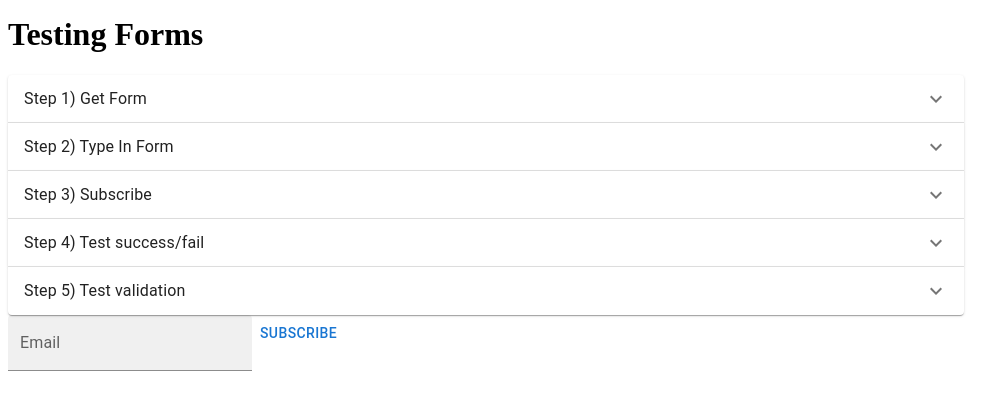
Test: forms tests › Test subscribe form
Check: the heading "Testing Forms" is shown, box x1=8 y1=16 x2=203 y2=52
Type "elena@gmail.com" into the field labelled "Email" at (130, 343), box x1=8 y1=315 x2=252 y2=371
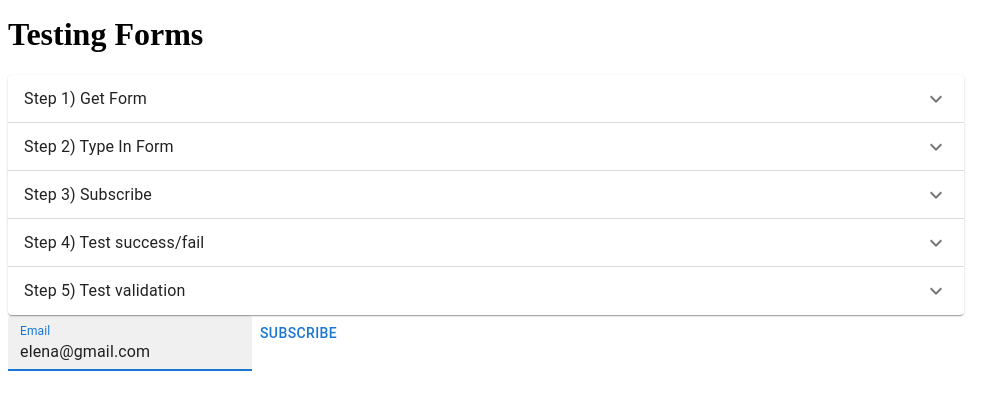
Click the button with test id "subscribe-button" at (299, 334), box x1=252 y1=315 x2=345 y2=352
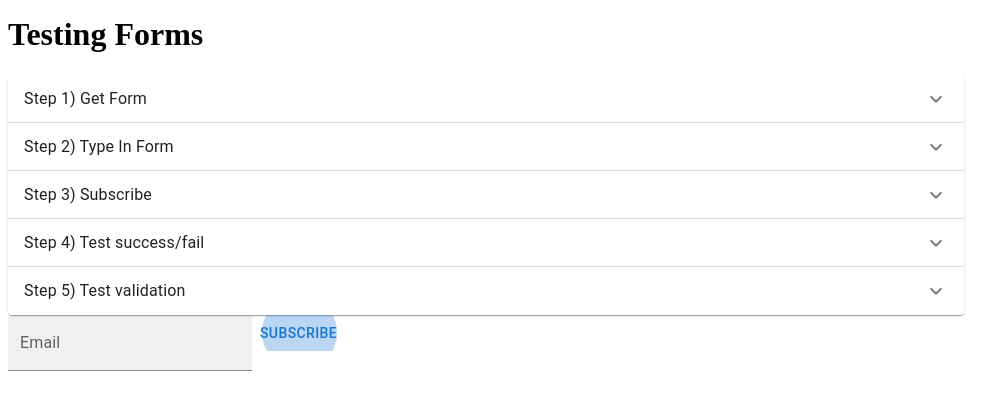
Type "elena@gmail.io" into the field labelled "Email" at (130, 343), box x1=8 y1=315 x2=252 y2=371
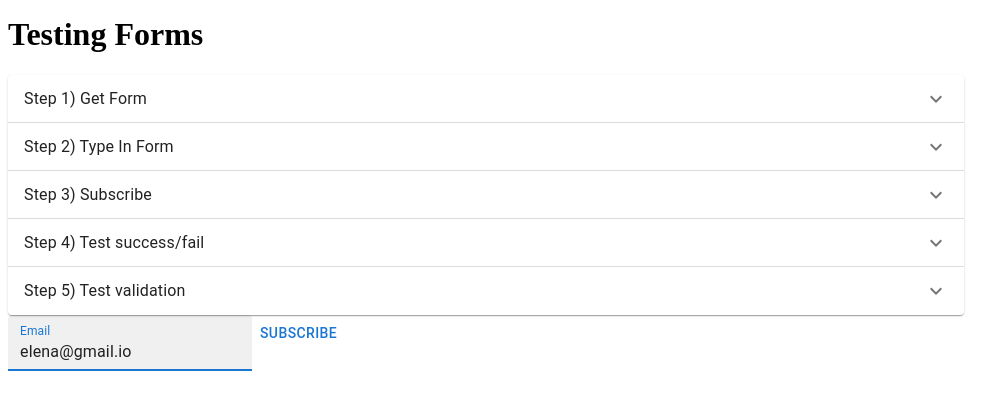
Click the button with test id "subscribe-button" at (299, 334), box x1=252 y1=315 x2=345 y2=352
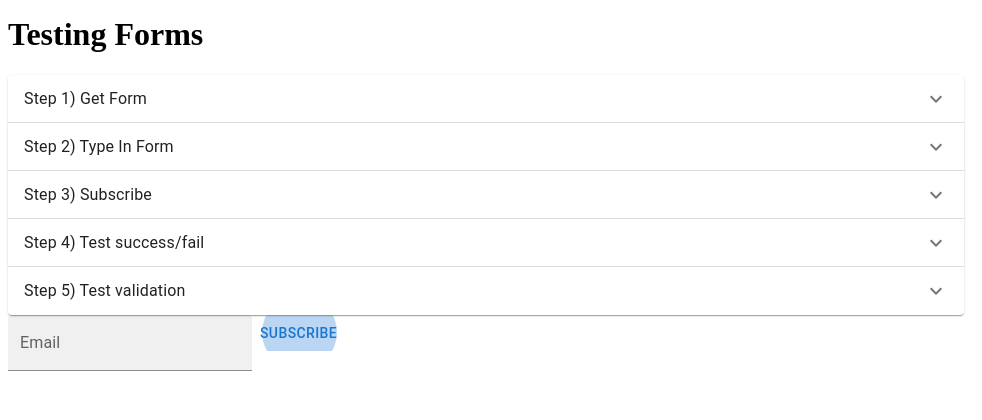
Check: the text "fail!" is not shown
Click the button with test id "subscribe-button" at (299, 334), box x1=252 y1=315 x2=345 y2=352
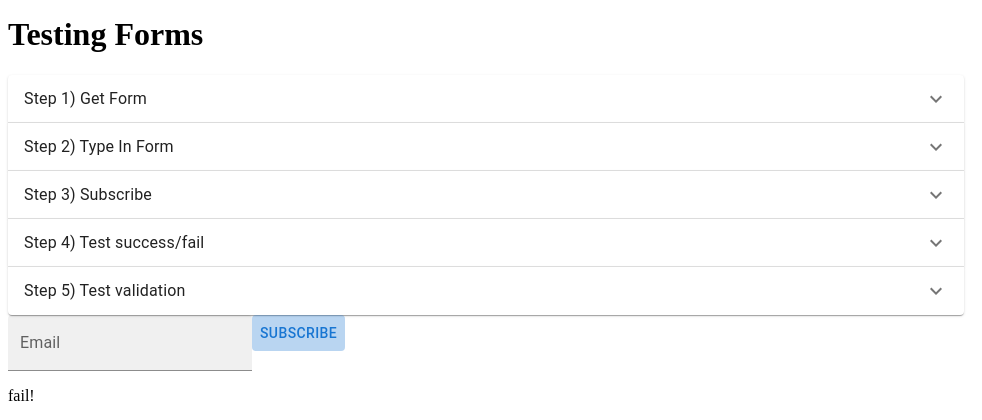
Check: the text "fail!" is shown, box x1=8 y1=387 x2=35 y2=404
